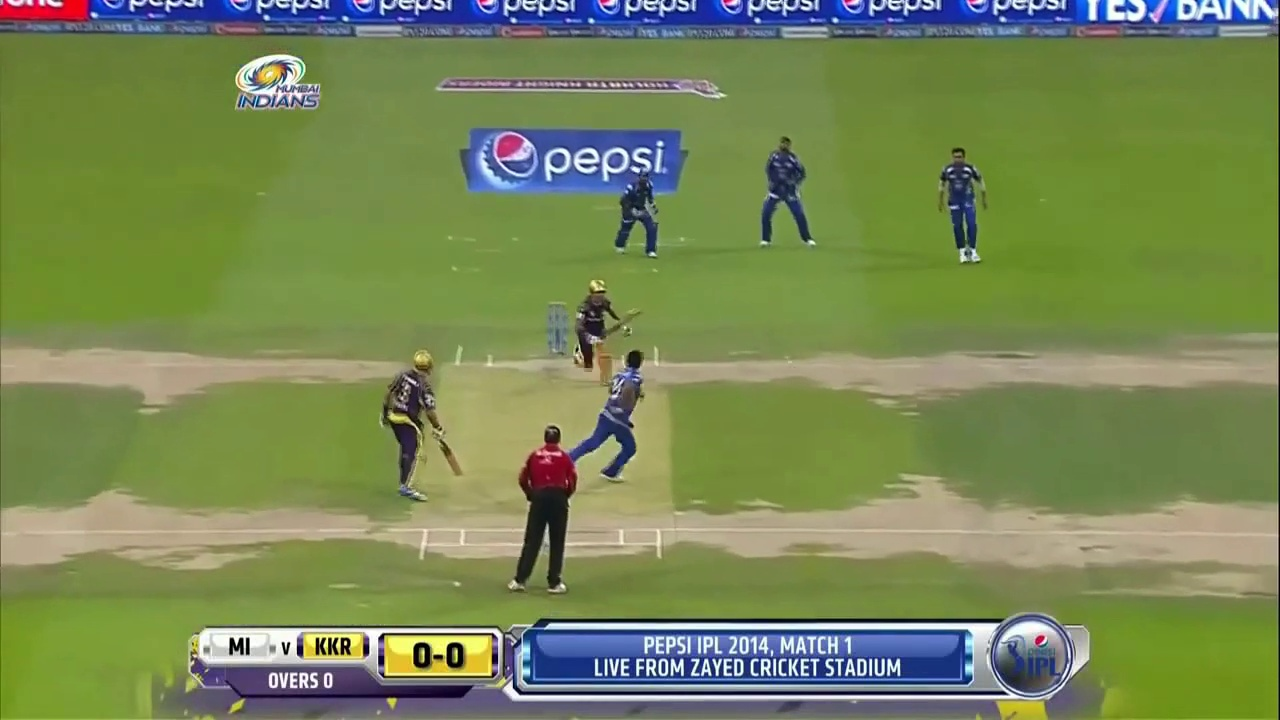bat: (439, 440, 463, 477)
